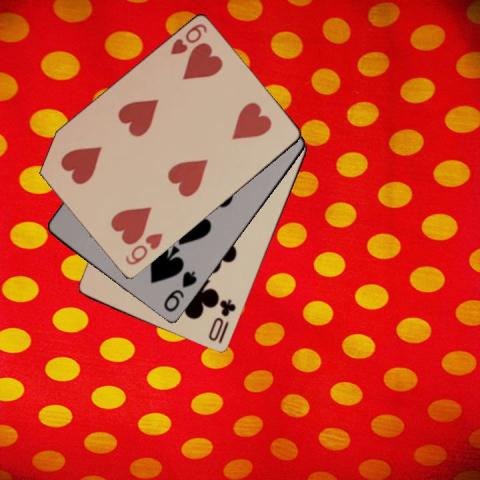10c: (206, 297, 238, 345)
6h: (122, 230, 165, 267), (166, 21, 208, 56)
9s: (160, 268, 198, 314)
